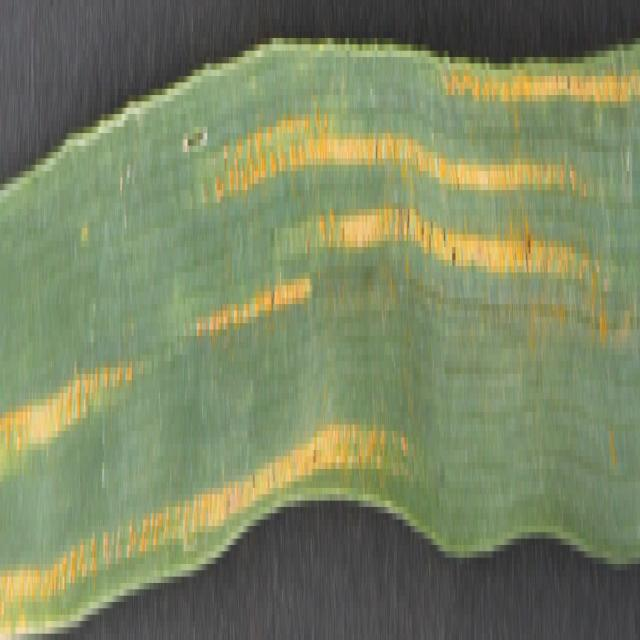leaf rust: (1, 32, 640, 608)
